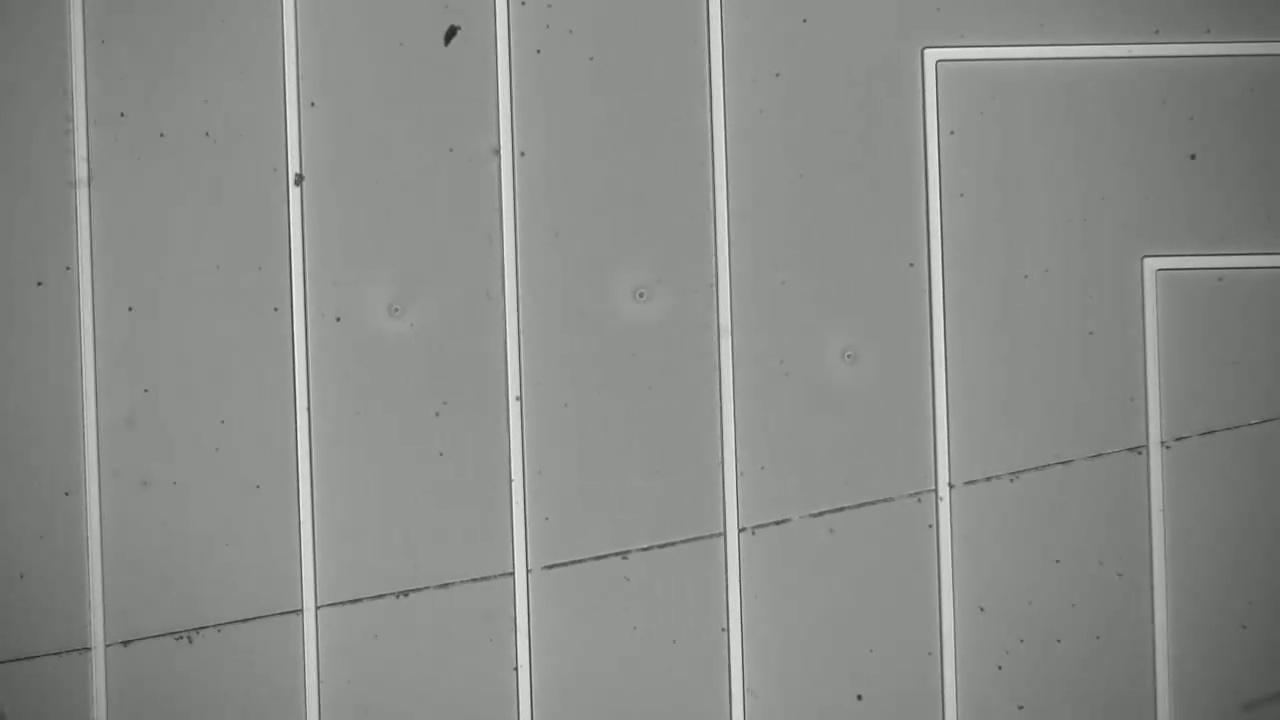scratch: (0, 536, 719, 670), (738, 416, 1276, 536)
stains_enbedded: (282, 169, 309, 195)
